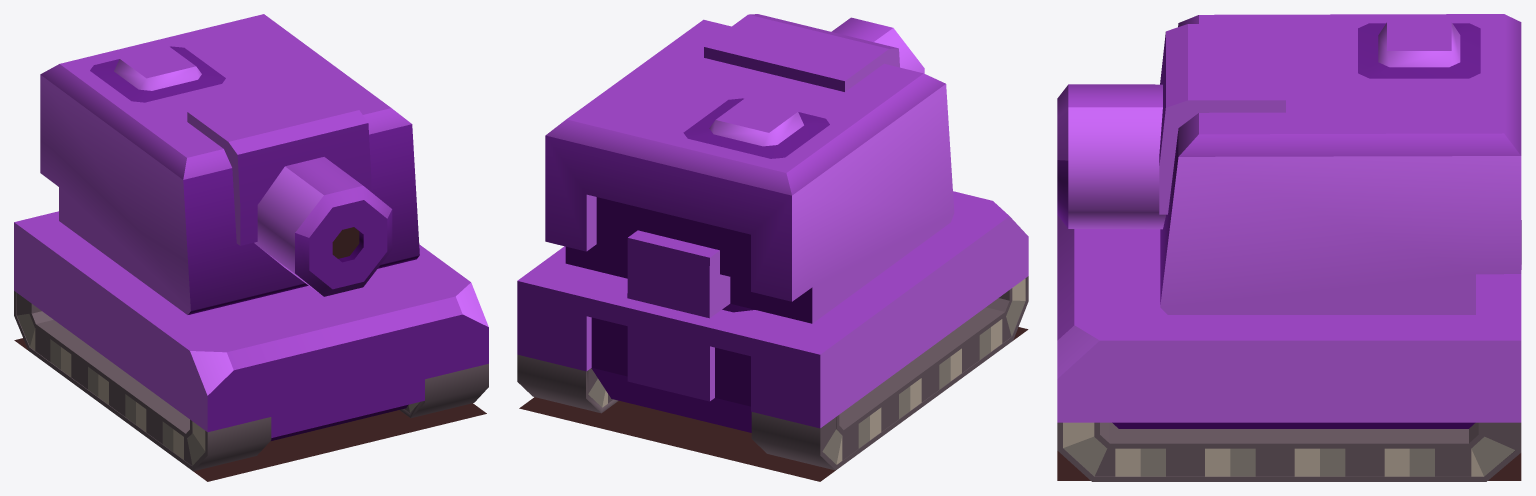
Rendered from MediumTankMesh.PurpleLightning.glb.
3 views of the same model, side by side, from view 1: azimuth 30°, elevation 25°; view 2: azimuth 150°, elevation 25°; view 3: azimuth 270°, elevation 25° (orthographic). The views are drawn at different scales.
Parts seen in each view (by area): view 1: MediumTankMesh.PurpleLightning; view 2: MediumTankMesh.PurpleLightning; view 3: MediumTankMesh.PurpleLightning.
Boxes of the visible parts, bbox=[...] form: MediumTankMesh.PurpleLightning: bbox=[14, 14, 488, 481]; MediumTankMesh.PurpleLightning: bbox=[517, 14, 1028, 481]; MediumTankMesh.PurpleLightning: bbox=[1057, 14, 1521, 481].
Size of the model in its own units: 1.72 by 1.66 by 2.05.
Materials: 1 (1 with a texture image).
